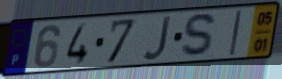4: (64, 22, 90, 66)
6: (33, 22, 62, 69)
7: (108, 16, 139, 66)
I: (228, 9, 244, 58)
J: (141, 14, 174, 62)
S: (179, 12, 219, 60)
